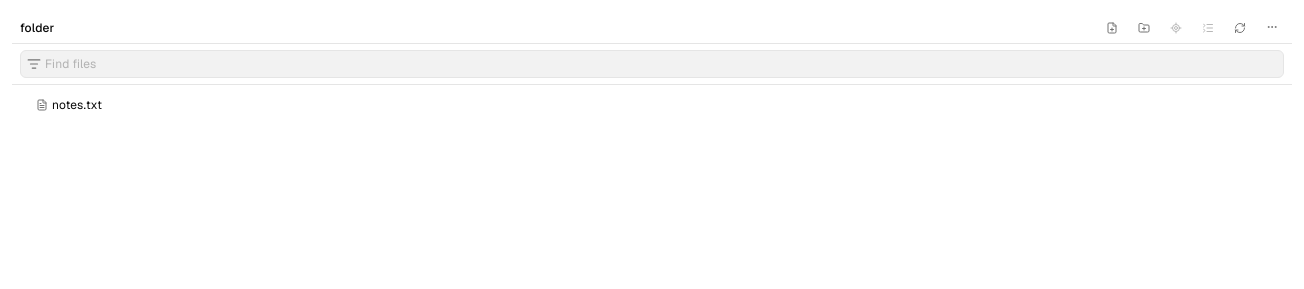
Test: duplicate row (#334) › surfaces the daemon refusal without adding a row
This screenshot has width=1304, height=289.
Right-click the button "notes.txt" at (77, 105), box [12, 93, 1292, 117]
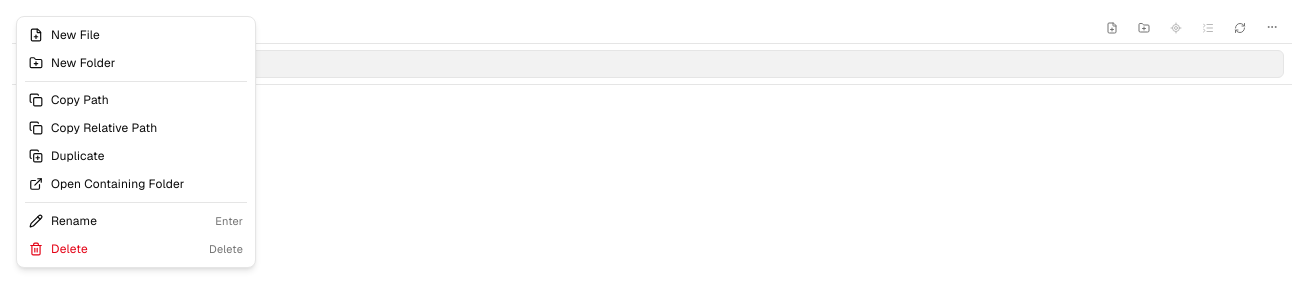
Click the menu item "Duplicate" at (136, 156), box [21, 142, 251, 170]
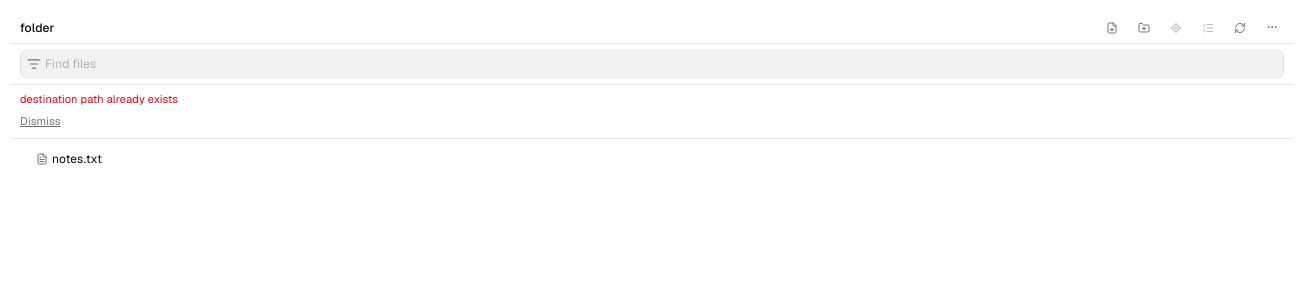
Now the message shows "destination path already exists", box [20, 92, 178, 106]
